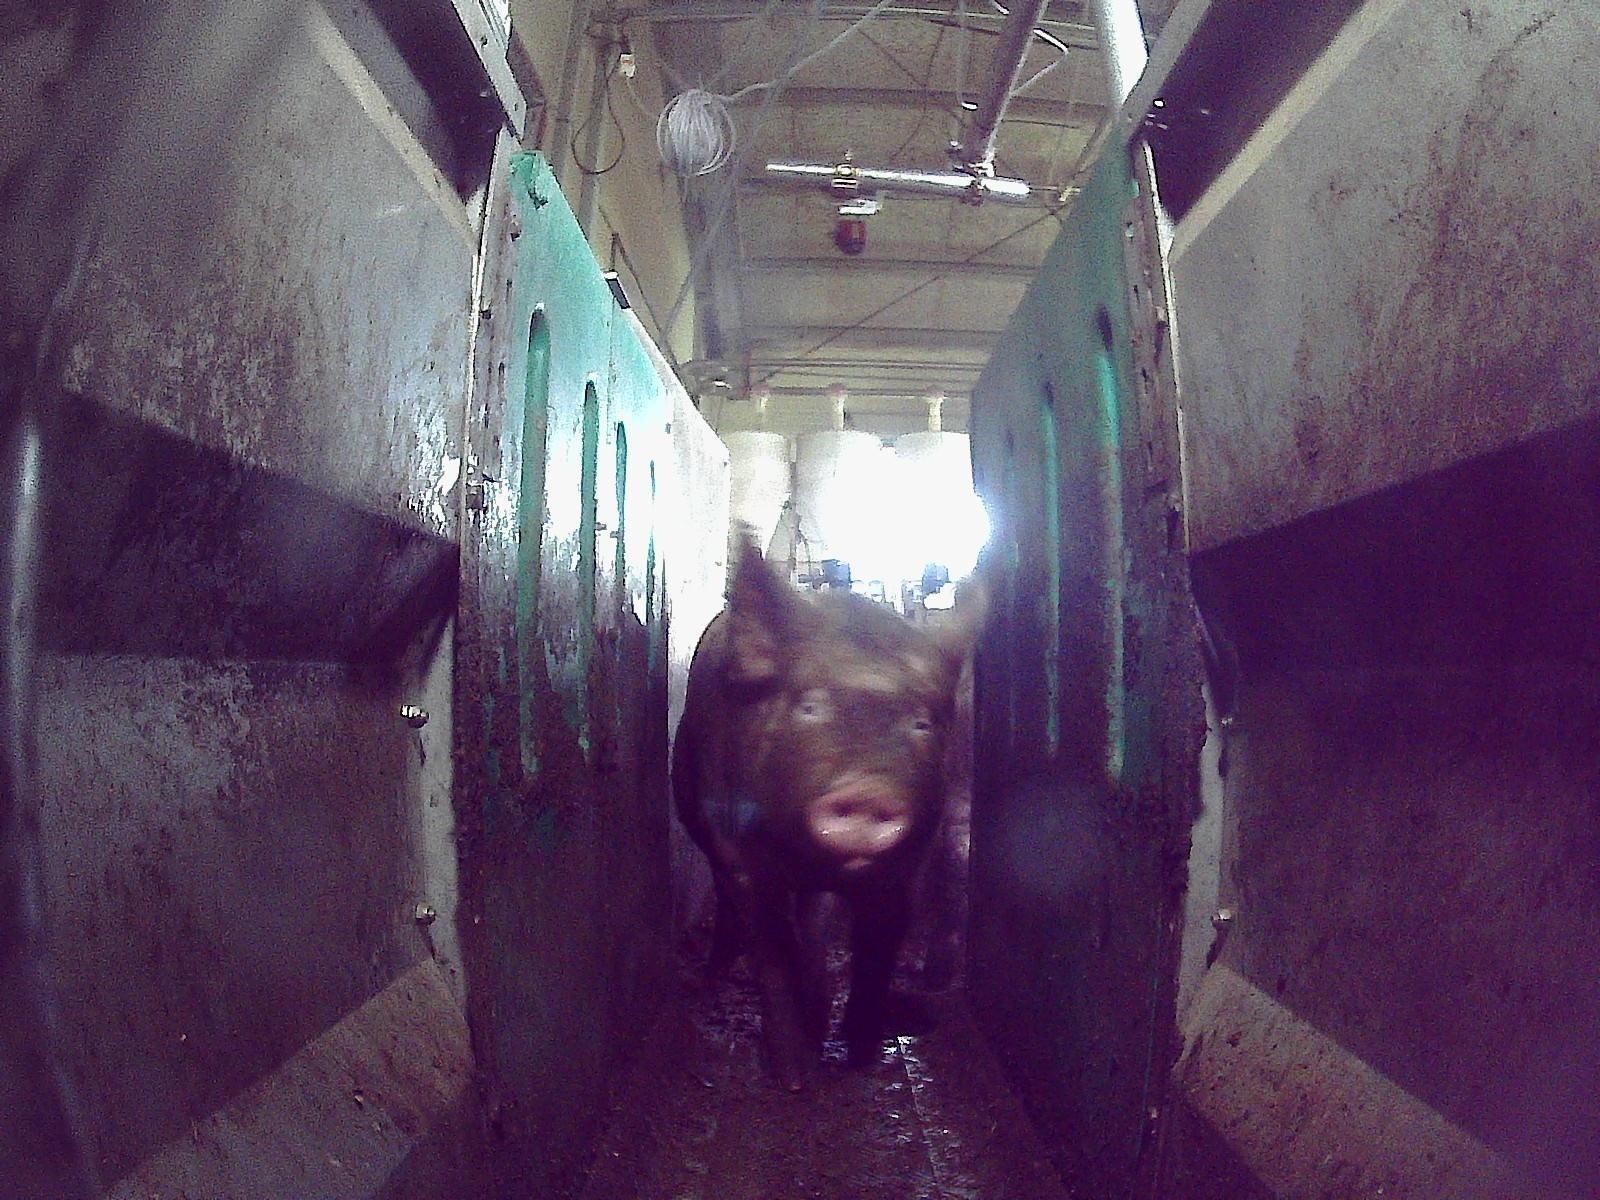Face: (752, 603, 944, 872)
